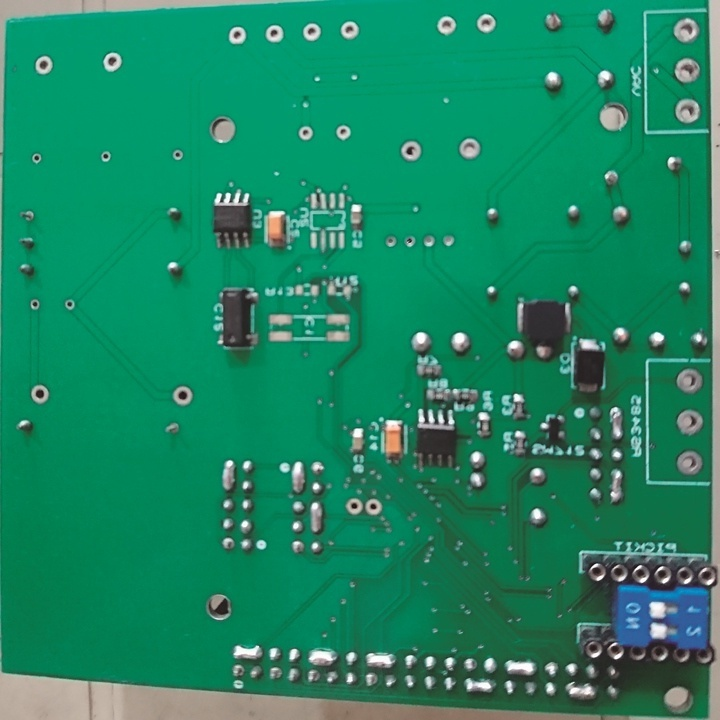F: (674, 406, 706, 438), (673, 367, 707, 397), (672, 18, 704, 48), (673, 95, 702, 126), (672, 57, 703, 84), (676, 450, 703, 476), (455, 137, 481, 161), (398, 139, 422, 164), (28, 380, 51, 406), (33, 53, 56, 78), (101, 50, 124, 75), (264, 21, 287, 46), (474, 12, 498, 35), (171, 383, 194, 406), (226, 22, 248, 46), (436, 14, 461, 35), (301, 20, 322, 44), (340, 20, 365, 40), (361, 495, 382, 518), (161, 418, 184, 439), (544, 656, 561, 680), (345, 495, 366, 514), (19, 206, 40, 225), (421, 231, 440, 251), (310, 459, 327, 480), (298, 124, 317, 141), (290, 538, 306, 558), (441, 230, 456, 251), (219, 535, 237, 552), (462, 656, 480, 673), (363, 670, 378, 689), (382, 234, 399, 250), (268, 664, 284, 680), (336, 125, 350, 143), (230, 663, 246, 678), (307, 668, 320, 686), (99, 149, 113, 165), (26, 298, 41, 312), (402, 234, 416, 249), (171, 148, 184, 163), (29, 152, 43, 165), (64, 297, 76, 312)
P: (501, 657, 539, 680), (364, 650, 399, 672), (462, 674, 498, 695), (231, 641, 265, 662), (564, 680, 596, 702), (607, 404, 625, 443), (219, 455, 236, 495), (307, 646, 339, 667), (608, 466, 624, 506), (290, 459, 306, 496), (309, 500, 323, 536)
